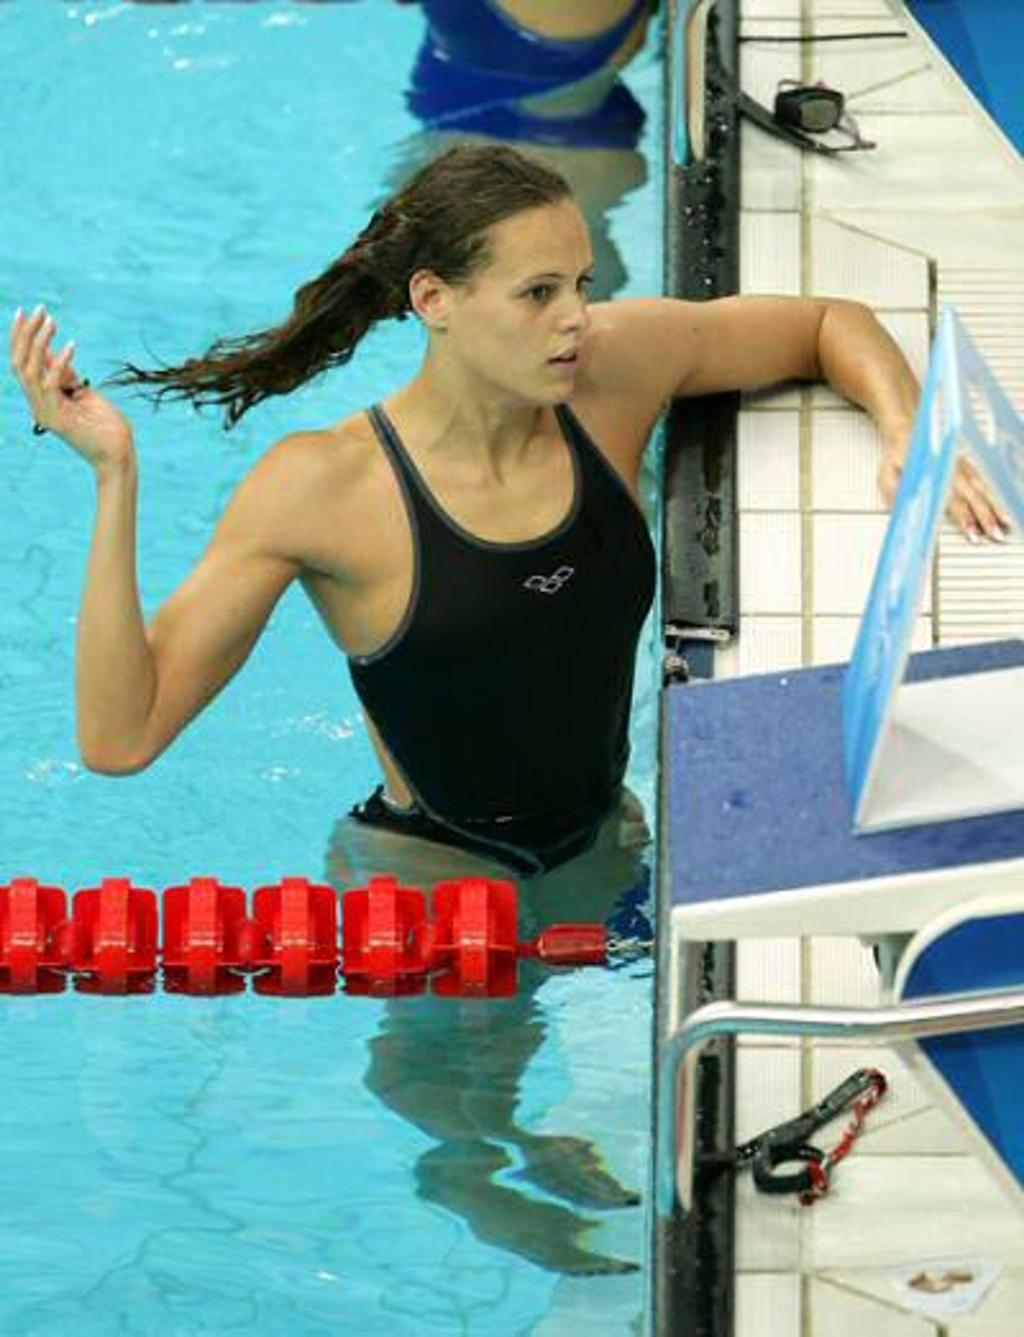face: (457, 206, 598, 402)
